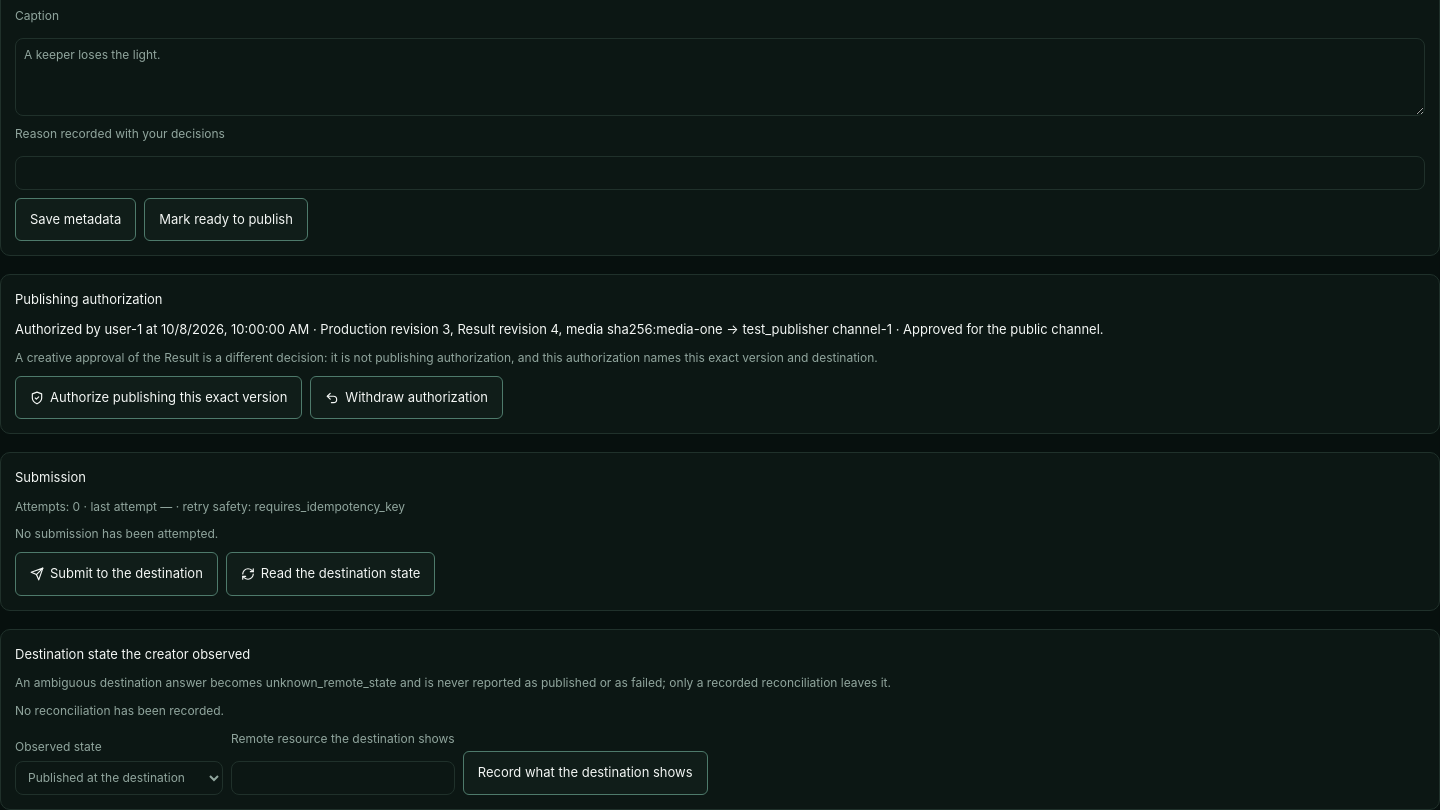
Test: publishing › records a reconciliation as what the creator observed
The width and height of the screenshot is (1440, 810).
(page scrolled)
Select "Published at the destination" in the dropdown named "Observed destination state" at (119, 778), box [15,760,223,794]
Type "remote-9" into the field named "Observed remote resource" at (343, 778), box [231,760,455,794]
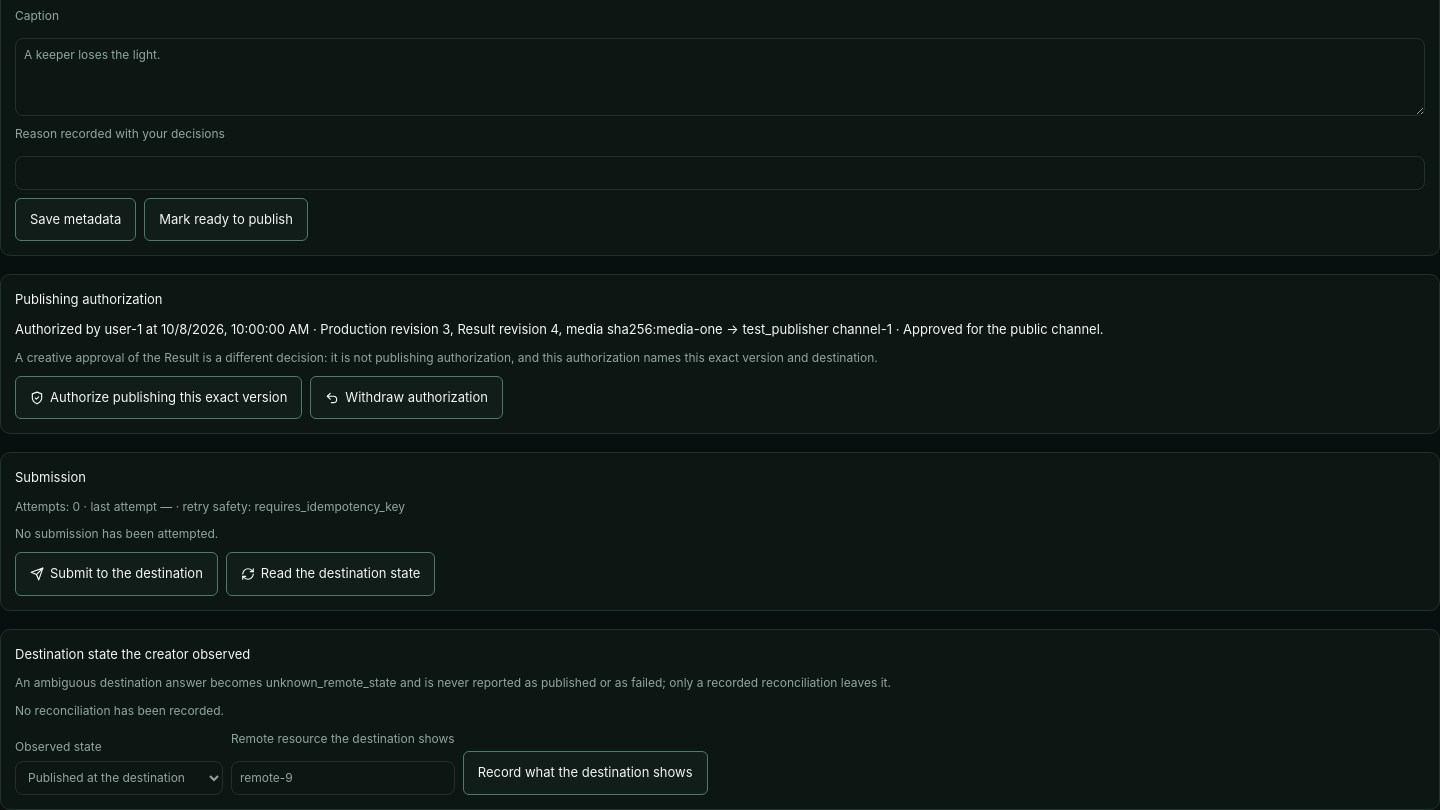
Click the button "Record what the destination shows" at (585, 773), box [463,751,708,794]
(page scrolled)
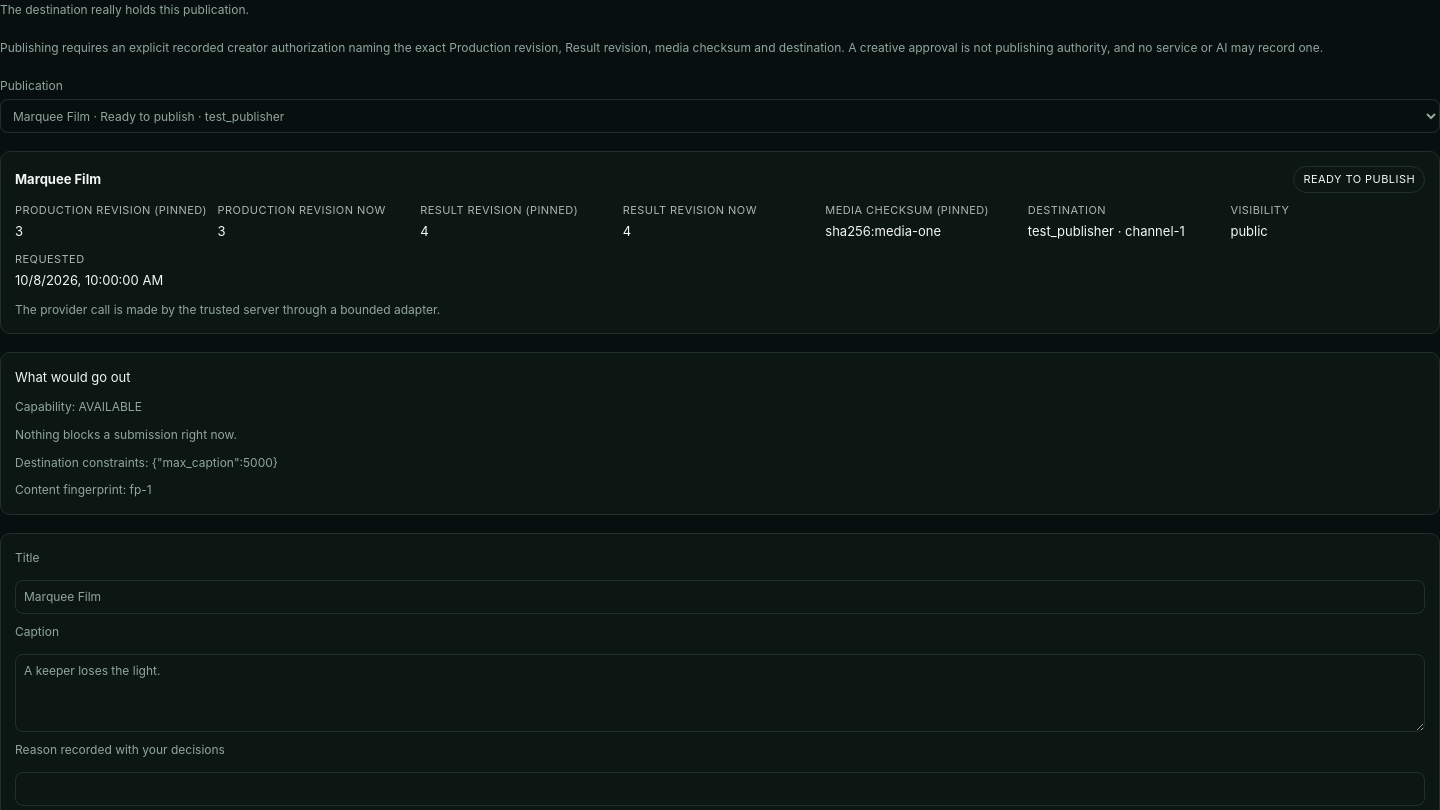
Now the text "The destination really holds this publication." is shown, box [0,2,249,17]
